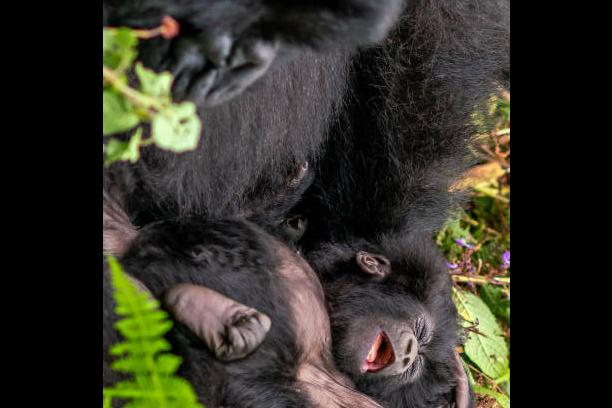goriile_montagne: (102, 0, 510, 236), (175, 244, 475, 408)
